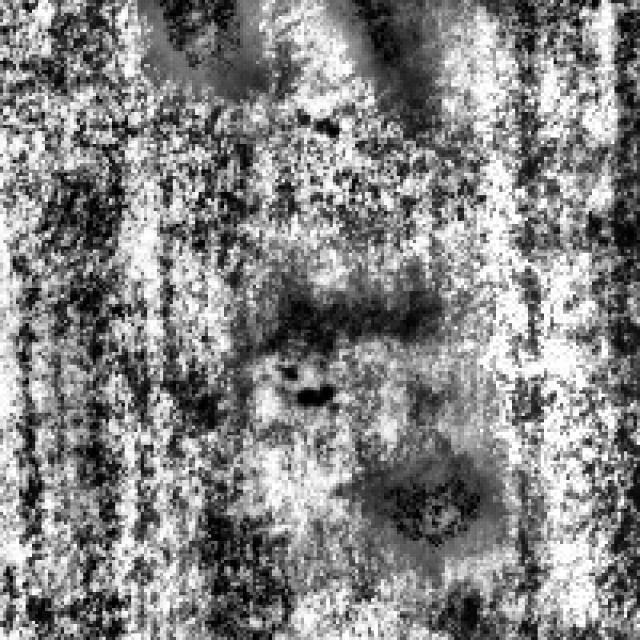Scratches: (339, 438, 486, 564), (140, 0, 247, 90), (323, 0, 426, 74)
